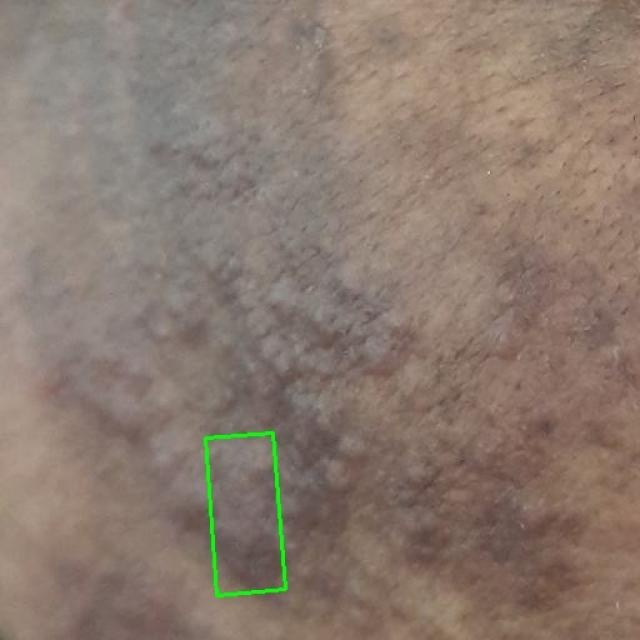Tinea Corporis: (205, 433, 285, 595)
